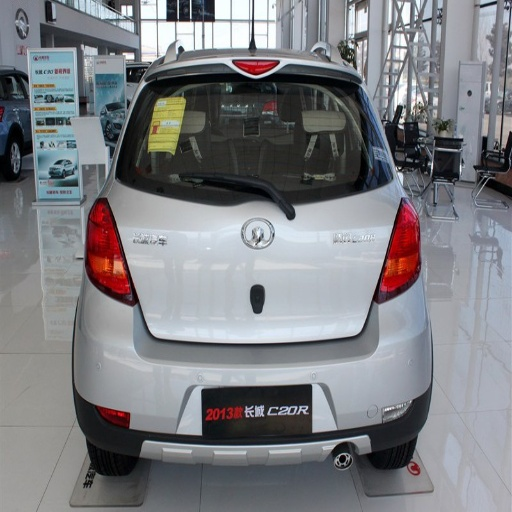back_bumper: (75, 279, 434, 463)
back_right_light: (376, 201, 420, 301)
tailgate: (108, 181, 231, 340), (336, 194, 394, 336)
trunk: (150, 188, 400, 342)
